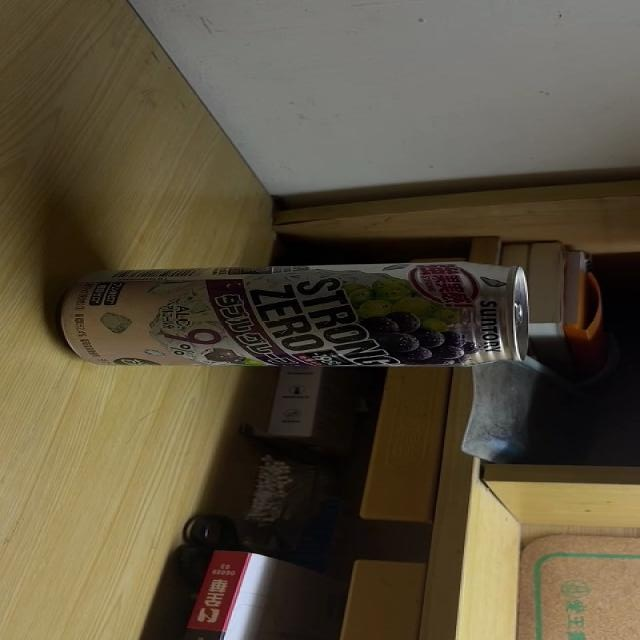Liquor: (60, 262, 527, 372)
